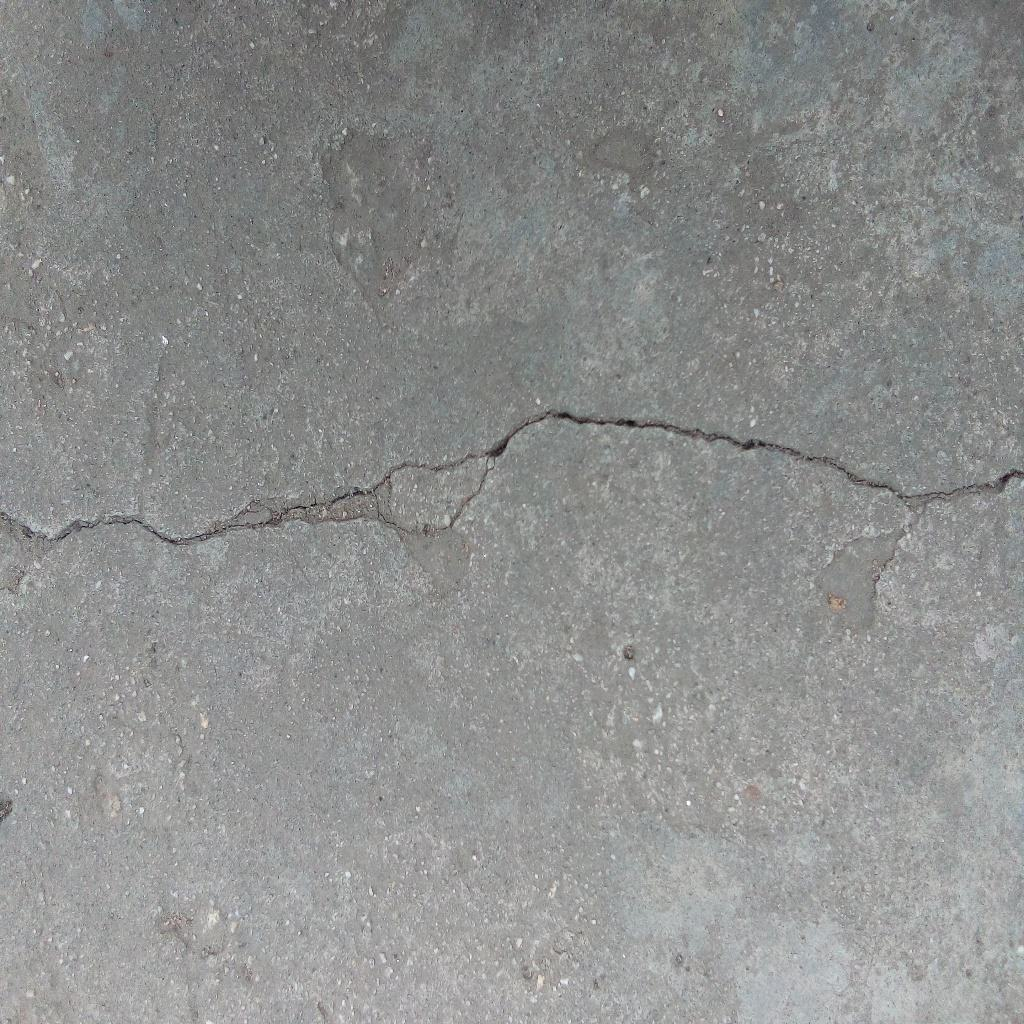Crack: (49, 407, 1024, 548)
Spalling: (278, 454, 495, 586), (316, 125, 430, 328), (811, 520, 920, 629), (586, 123, 669, 189), (156, 890, 231, 961), (1, 510, 49, 598)
